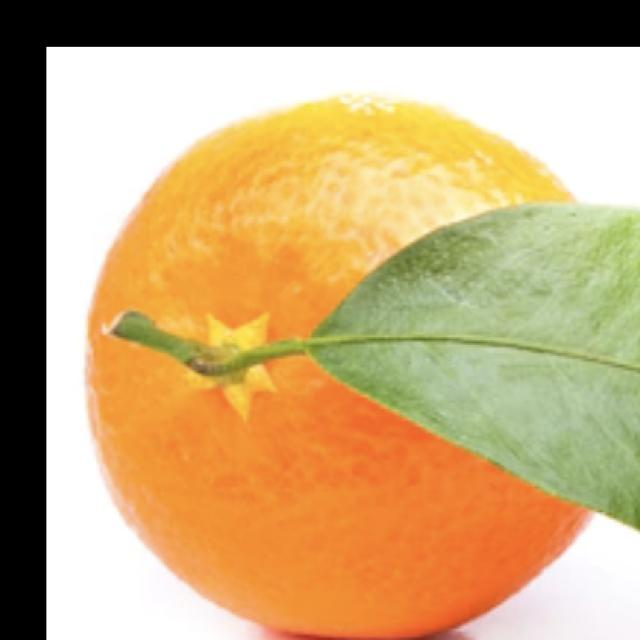Orange: (84, 91, 599, 639)
